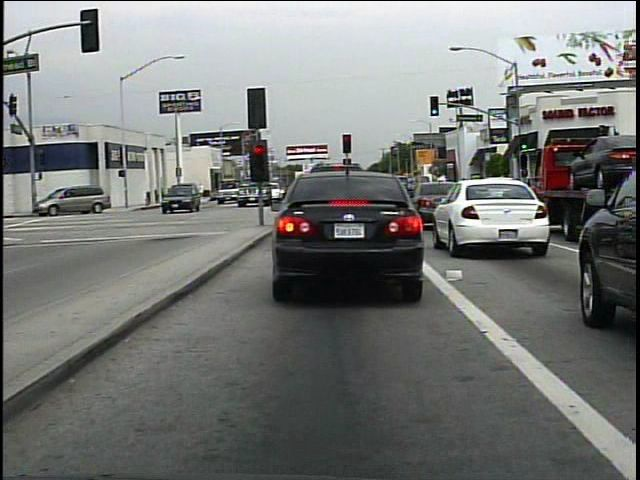person: (191, 178, 212, 204)
